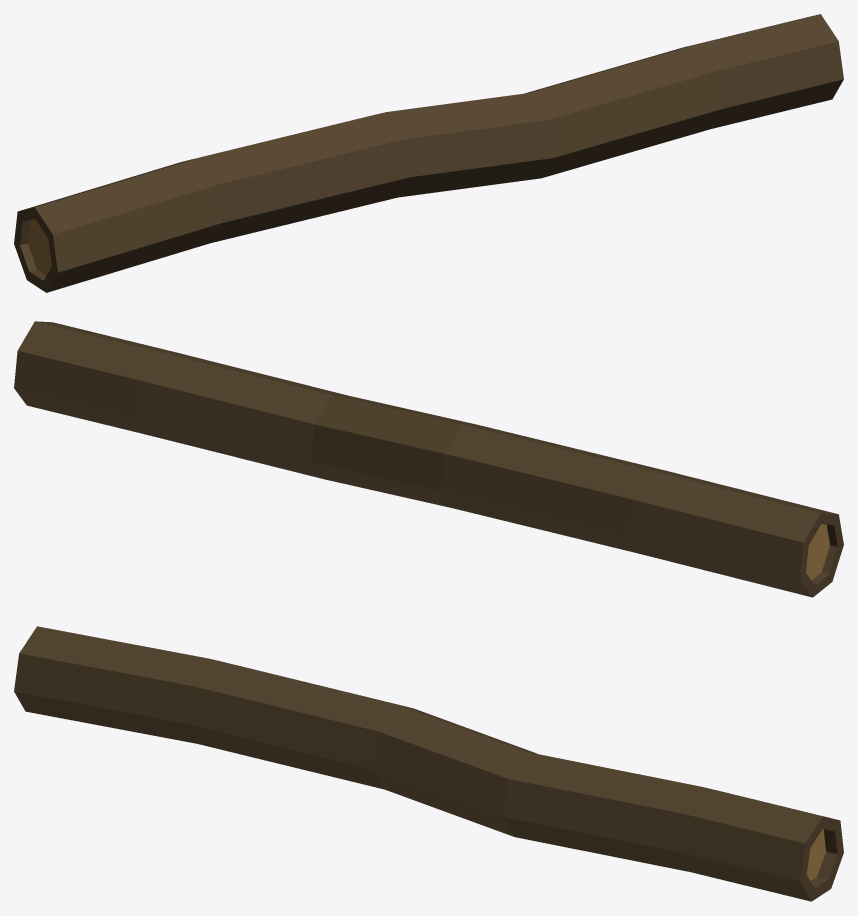
File: log.fbx
3 views of the same model, one above another, from view 1: azimuth 30°, elevation 25°; view 2: azimuth 150°, elevation 25°; view 3: azimuth 330°, elevation 25° (orthographic).
Parts seen in each view (by area): view 1: log; view 2: log; view 3: log.
Boxes of the visible parts, <box> form: log: <box>14,14,843,292</box>; log: <box>14,321,843,597</box>; log: <box>14,626,843,901</box>.
Size of the model in its own units: 774 by 82.37 by 86.7.
